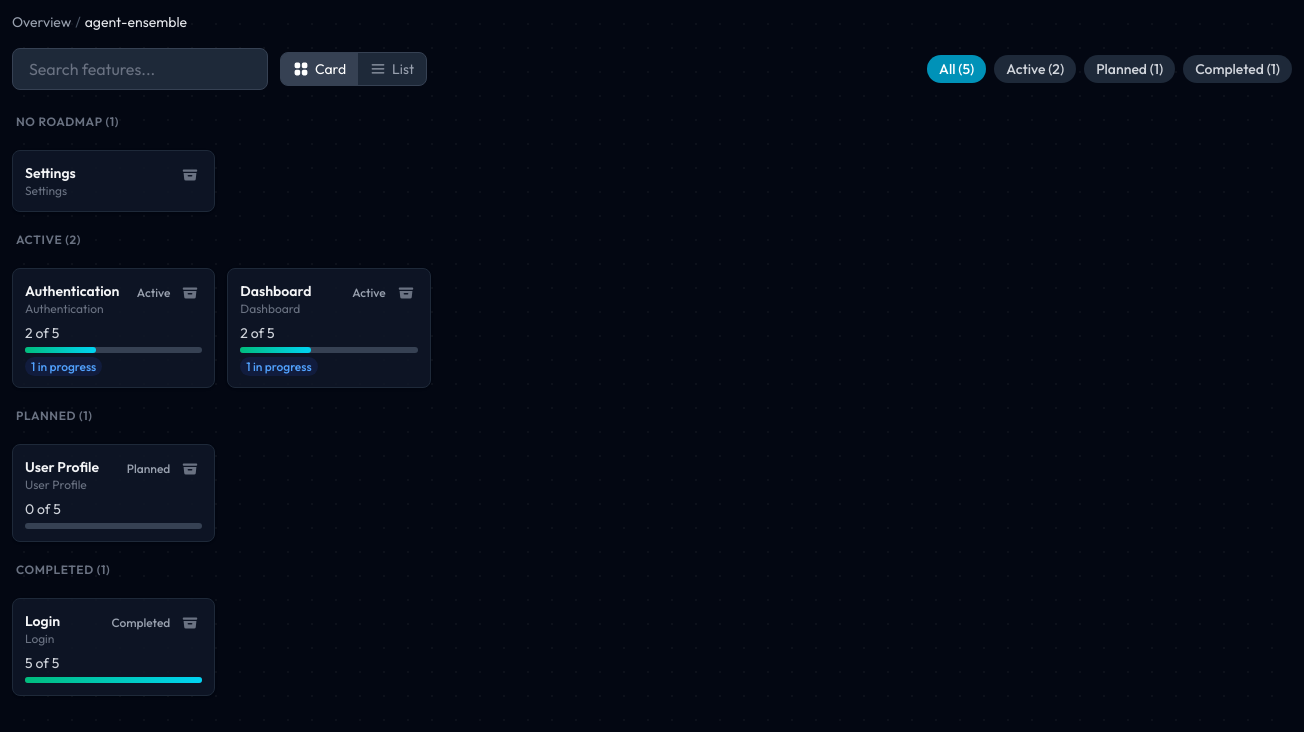
Test case: ProjectFeatureView › search filtering › clears search to restore all features; shows no-match message for invalid search
The image size is (1304, 732).
Filter then clear
Type "auth" into the field with placeholder "Search features..." at (140, 69), box [12,48,268,90]
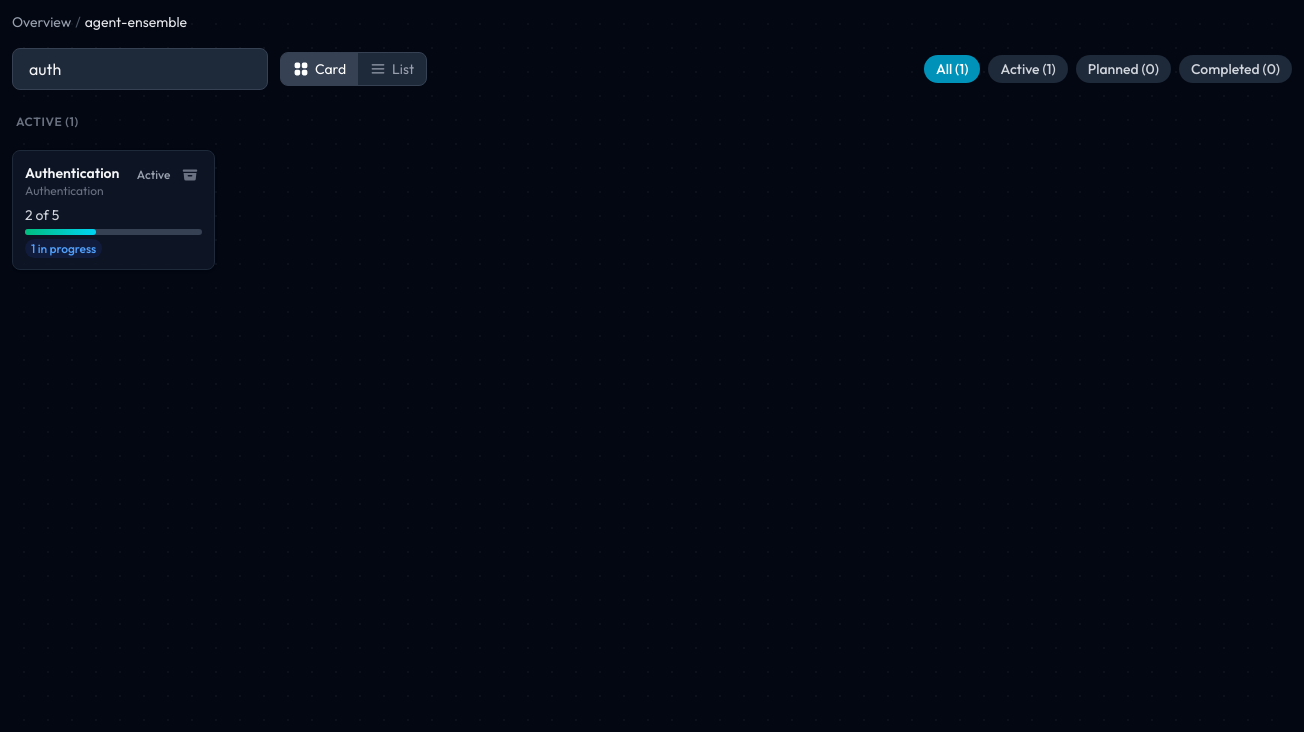
Expected: the button "Dashboard" is gone
Clear the field with placeholder "Search features..." at (140, 69), box [12,48,268,90]
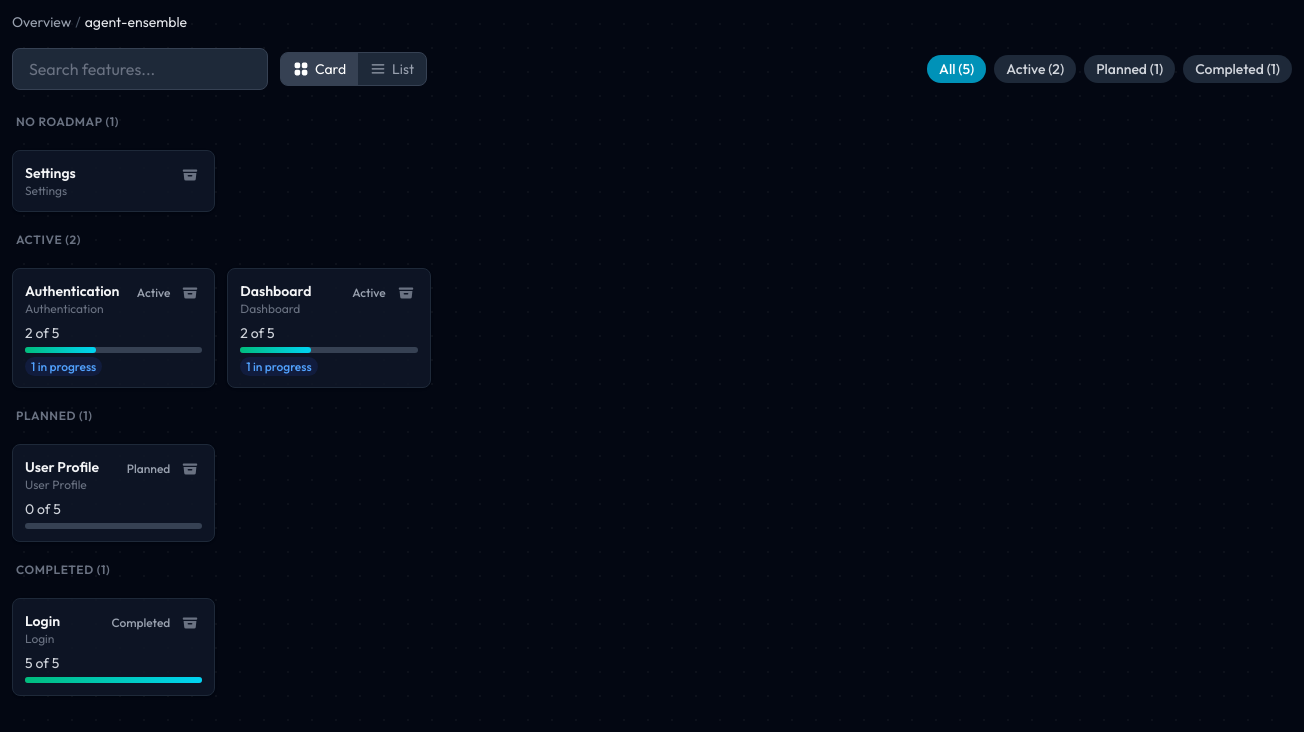
Expected: the heading "Authentication" is shown, [25,281,129,301]
Expected: the heading "Dashboard" is shown, [240,282,311,300]
No matches message
Type "xyz-nonexistent" into the field with placeholder "Search features..." at (140, 69), box [12,48,268,90]
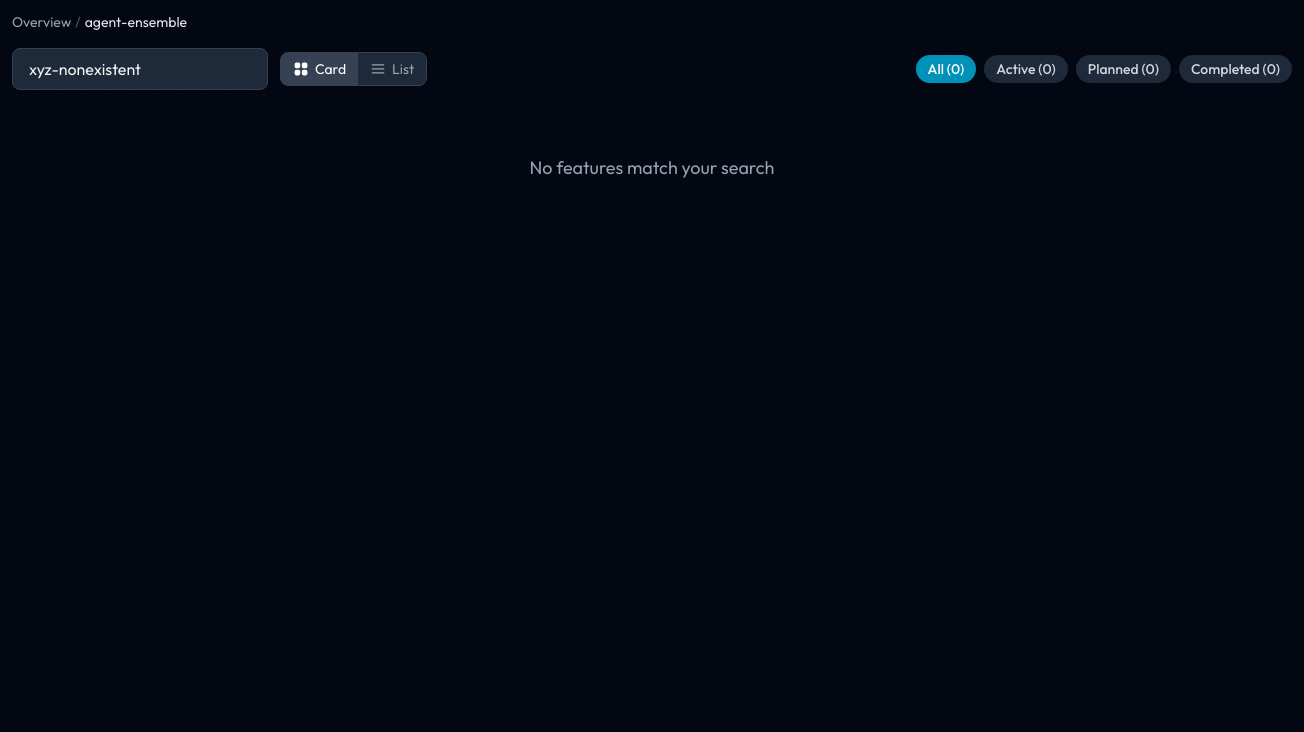
Expected: the text "No features match your search" is shown, [530,154,774,182]
